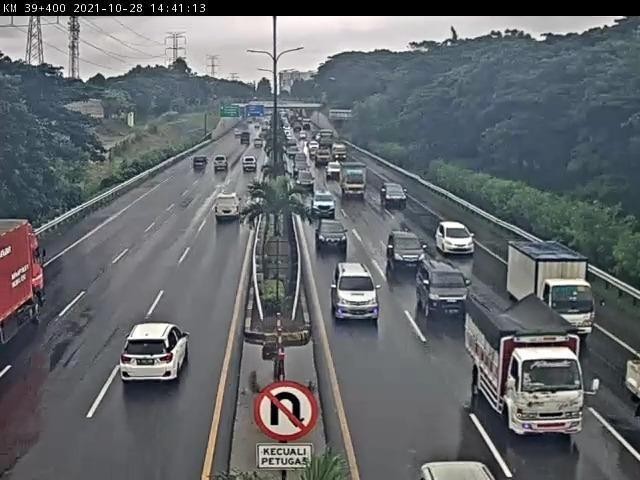car: (86, 322, 205, 394), (394, 405, 496, 480), (417, 260, 471, 314), (328, 267, 376, 320), (211, 192, 248, 230), (438, 225, 476, 255), (392, 231, 423, 265), (315, 215, 345, 245), (314, 189, 338, 217), (380, 179, 403, 207), (295, 169, 315, 190), (242, 160, 261, 176), (325, 162, 343, 178), (212, 158, 227, 177), (192, 157, 206, 174), (293, 159, 310, 171)
